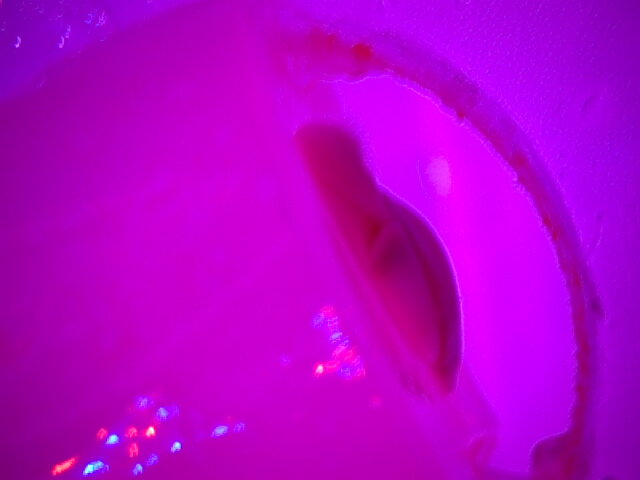sprout: (286, 123, 497, 413)
